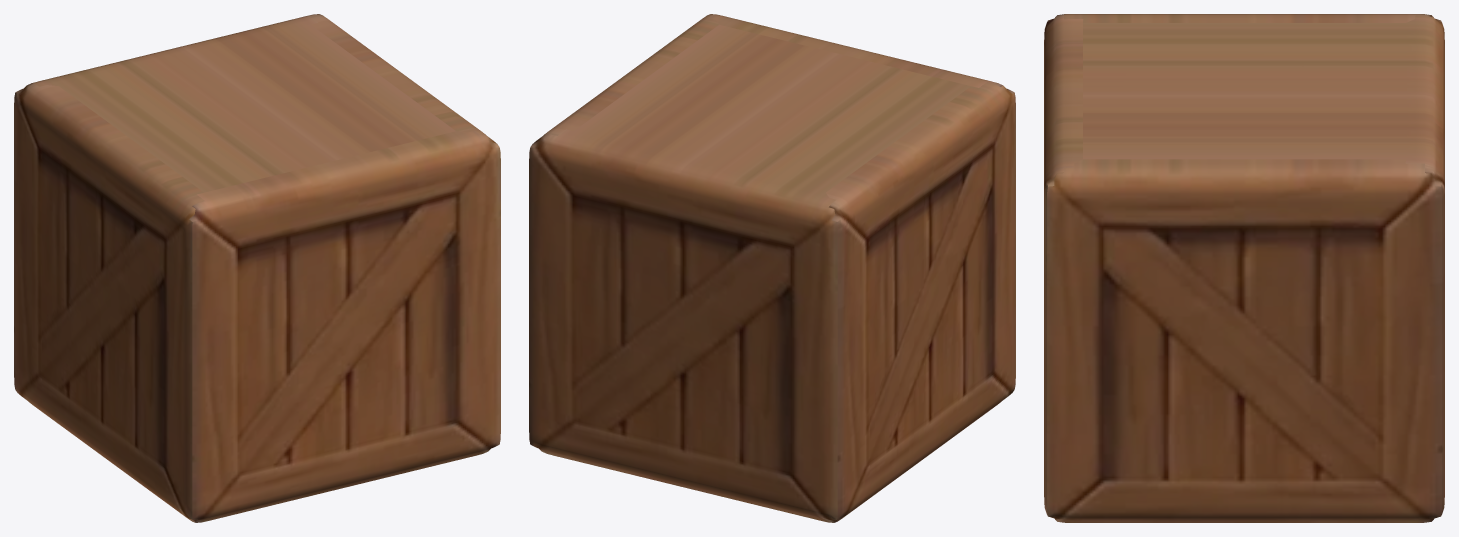
Rendered from town-crate.glb.
The picture shows the model from 3 angles, left to right: view 1: azimuth 30°, elevation 25°; view 2: azimuth 150°, elevation 25°; view 3: azimuth 270°, elevation 25°; orthographic projection. The views are drawn at different scales.
Parts seen in each view (by area): view 1: piece; view 2: piece; view 3: piece.
Boxes of the visible parts, bbox=[...] form: piece: bbox=[14, 14, 500, 522]; piece: bbox=[529, 14, 1015, 522]; piece: bbox=[1044, 14, 1444, 522].
Bounding box in the file's own units: 0.7175 × 0.7 × 0.7175.
Materials: 1 (1 with a texture image).
